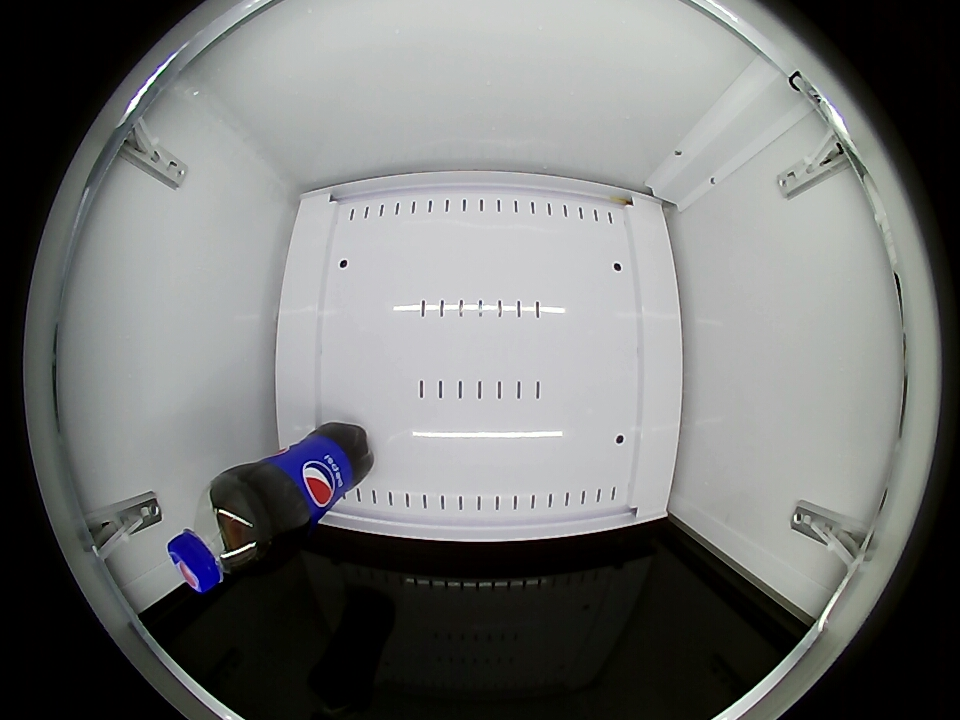baishikele-2: (167, 481, 274, 593)
